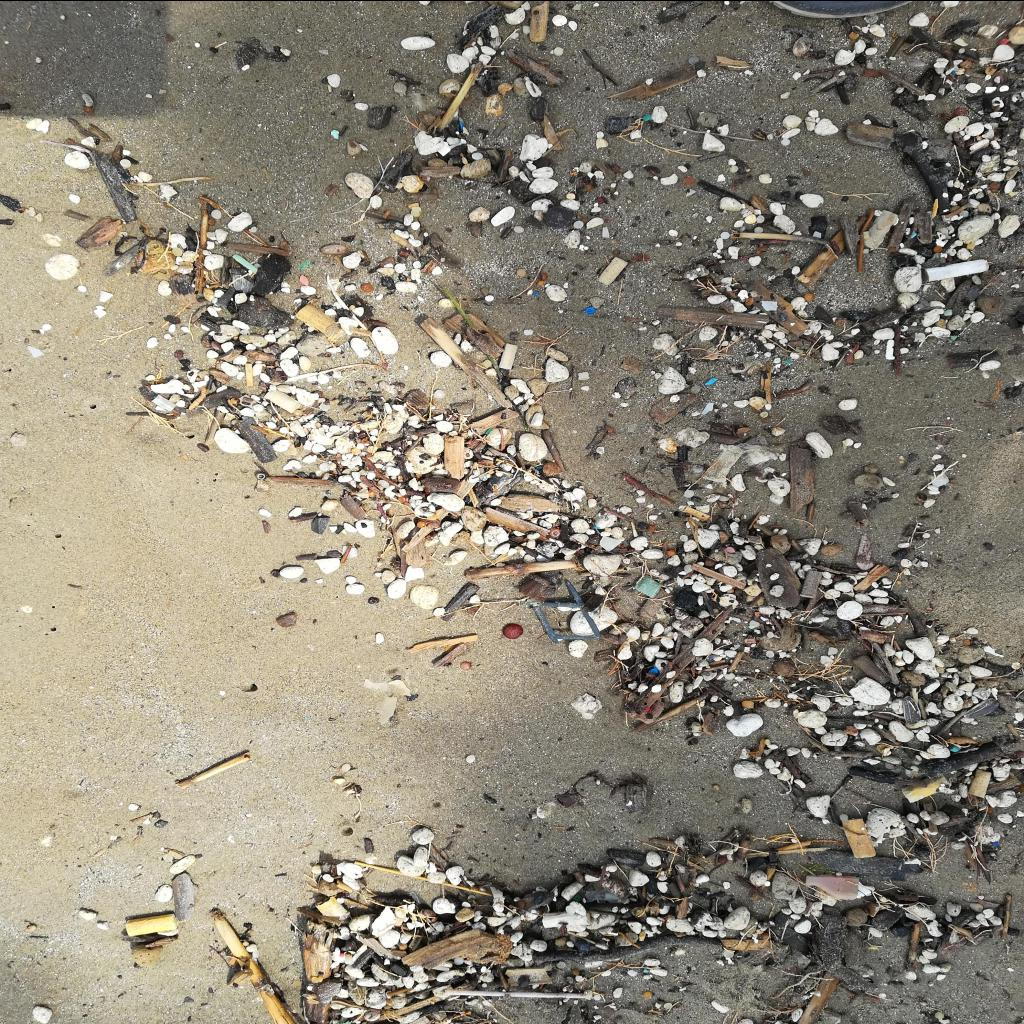Cigarette: (900, 772, 952, 802), (446, 988, 586, 998), (842, 818, 876, 858), (125, 913, 177, 936), (542, 912, 590, 928), (970, 771, 991, 797)
Other plastic bottle: (926, 258, 990, 281), (806, 874, 860, 899), (633, 574, 663, 596), (231, 253, 256, 273), (298, 274, 308, 286), (948, 744, 962, 752), (586, 306, 596, 314), (705, 377, 717, 383), (724, 546, 736, 552), (648, 666, 658, 672)
Unlabeled litter: (532, 578, 600, 642)
